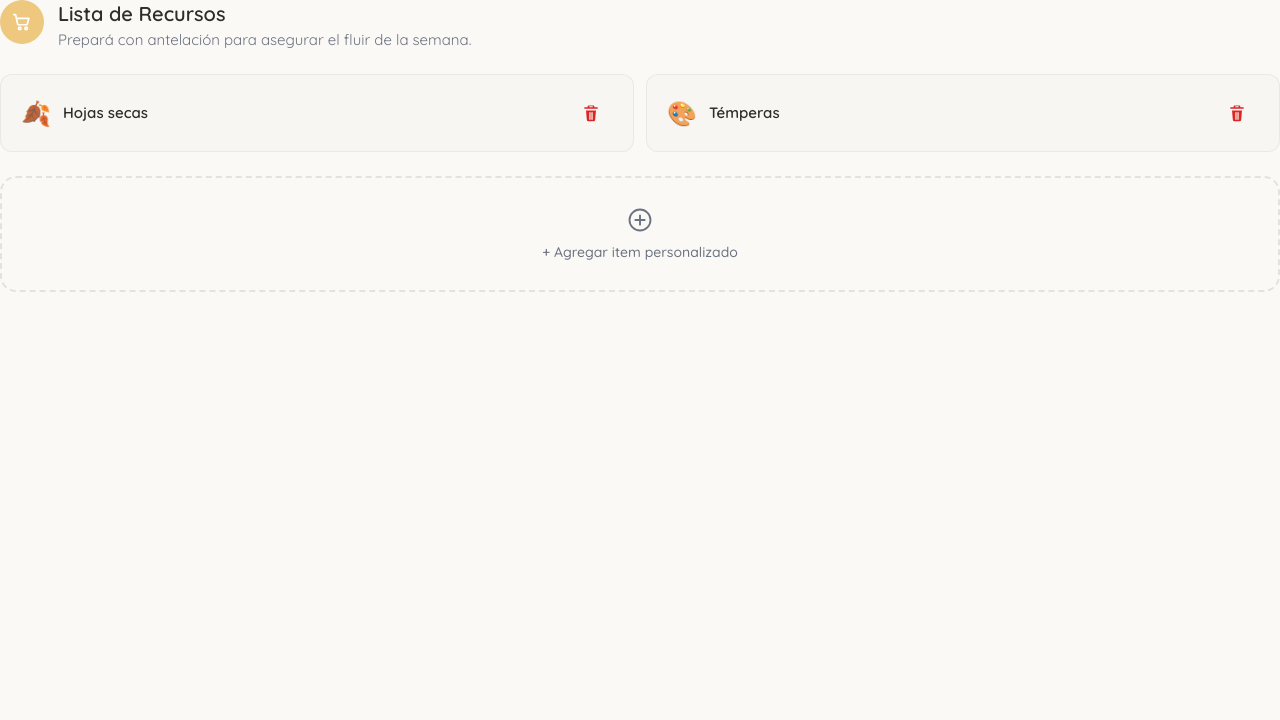
MaterialesTab + PlanContext: eliminar material (integración con MSW) › muestra el error del endpoint, no borra nada y permite reintentar
expect the text "Hojas secas" is shown: met, box [63, 103, 148, 122]
Click the button named "Eliminar material: Témperas" at x=1237, y=113, box [1215, 91, 1259, 135]
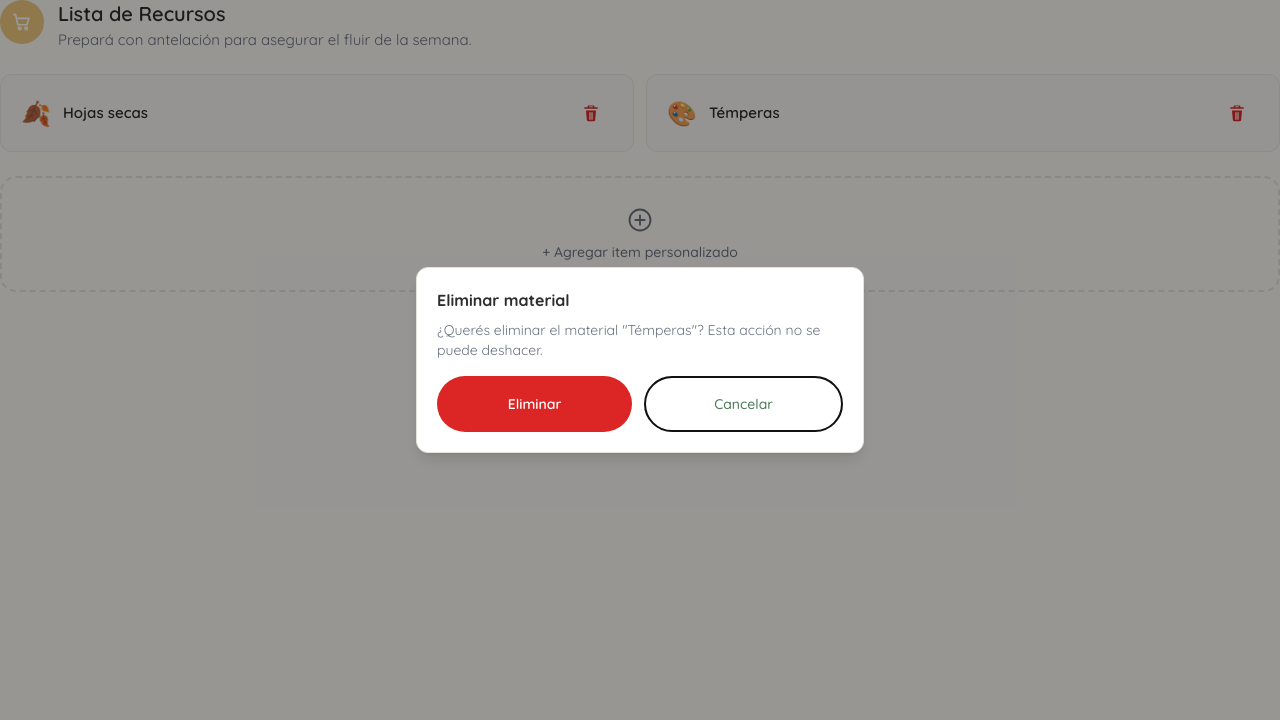
Click the button "Eliminar" at x=534, y=404, box [437, 376, 632, 432]
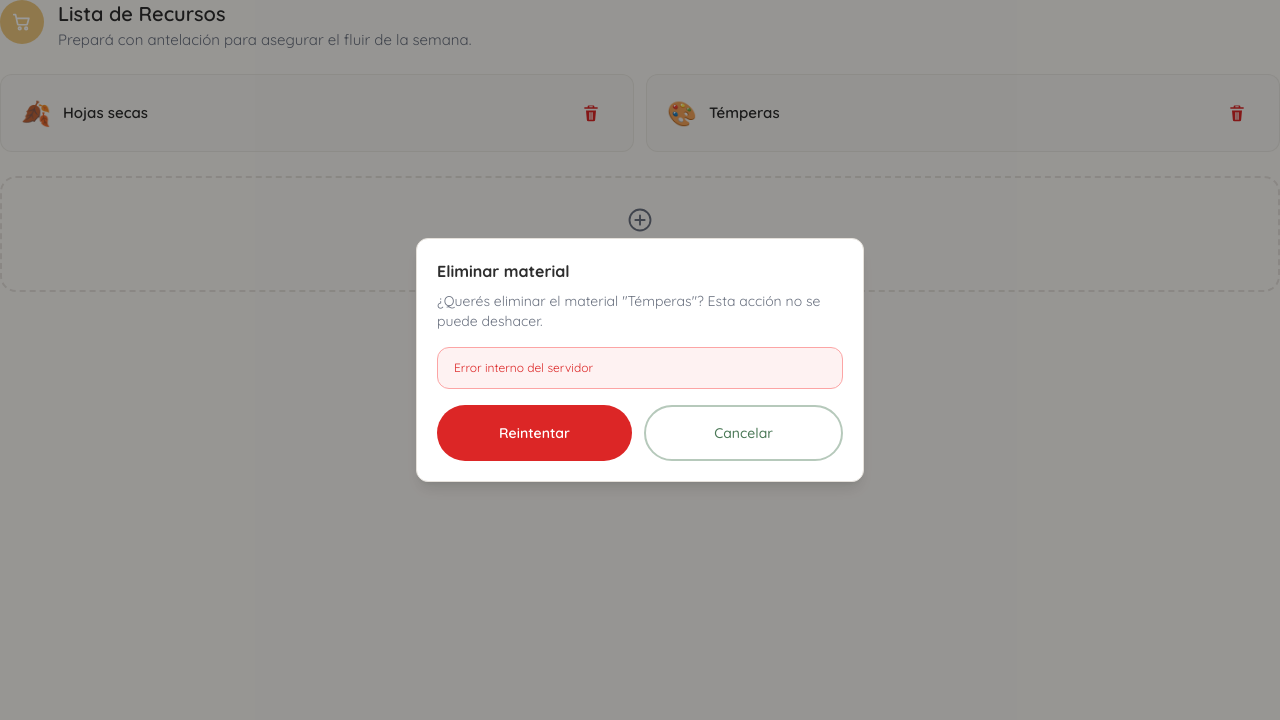
expect the text "Témperas" is shown: met, box [709, 103, 780, 122]
expect the dialog is shown: met, box [416, 238, 864, 482]
expect the message reads "Error interno del servidor": met, box [454, 360, 593, 375]
Click the button "Reintentar" at x=534, y=433, box [437, 405, 632, 461]
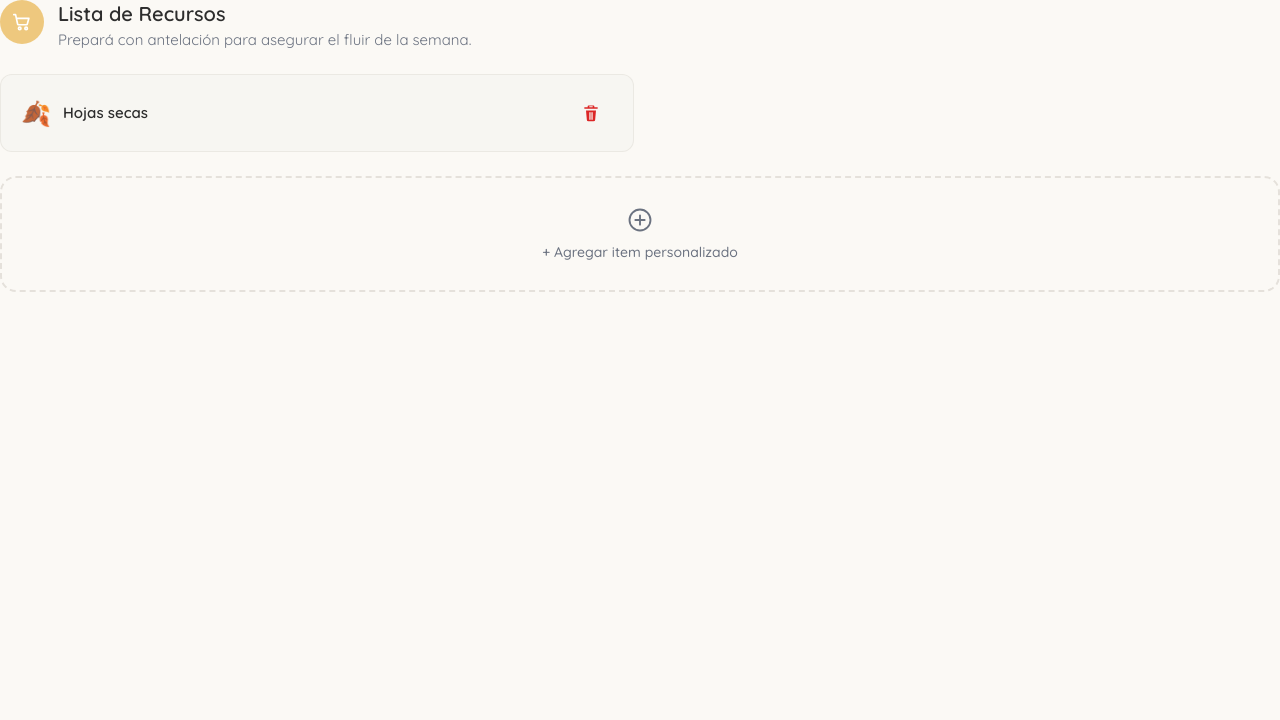
expect the dialog is gone: met
expect the button "Témperas" is gone: met
